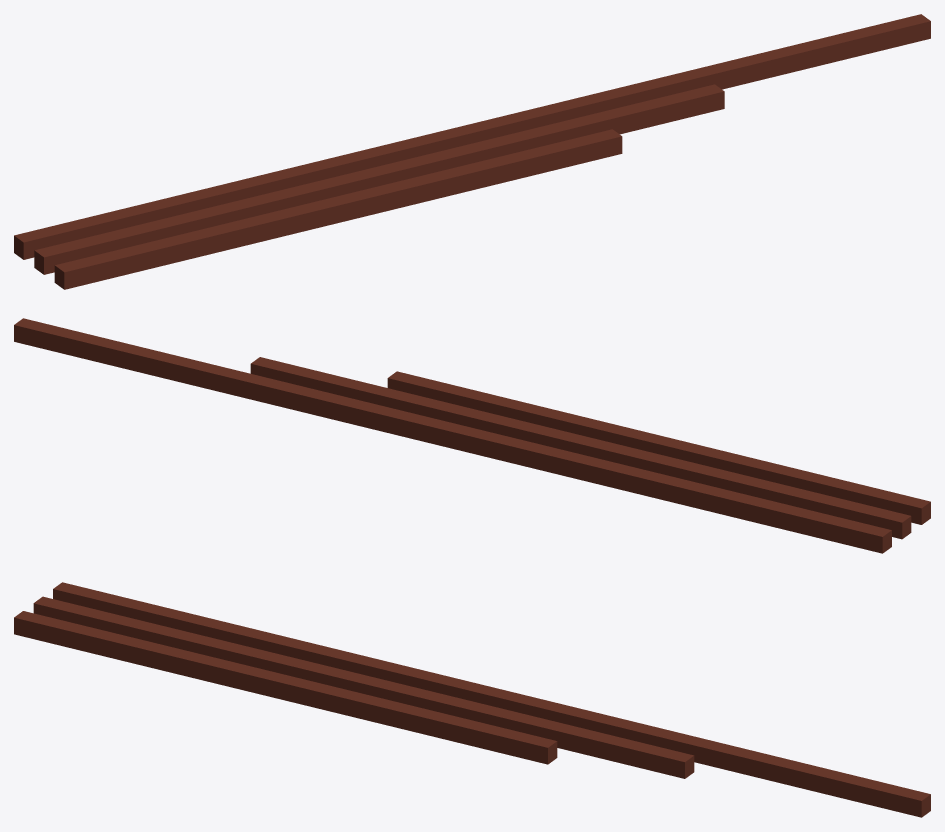
Rendered from post-90x90-steel_ipe_v0.1.dae.
The picture shows the model from 3 angles, top to bottom: view 1: azimuth 30°, elevation 25°; view 2: azimuth 150°, elevation 25°; view 3: azimuth 330°, elevation 25°; orthographic projection. The views are drawn at different scales.
Parts seen in each view (by area): view 1: IB-13232_post-90x90-steel_ipe_4880mm, IB-13212_post-90x90-steel_ipe_3000mm, IB-13222_post-90x90-steel_ipe_3660mm; view 2: IB-13232_post-90x90-steel_ipe_4880mm, IB-13222_post-90x90-steel_ipe_3660mm, IB-13212_post-90x90-steel_ipe_3000mm; view 3: IB-13232_post-90x90-steel_ipe_4880mm, IB-13212_post-90x90-steel_ipe_3000mm, IB-13222_post-90x90-steel_ipe_3660mm.
Part boxes in pixels (x1,y1,x2,y2): IB-13232_post-90x90-steel_ipe_4880mm: (14,14,930,259); IB-13212_post-90x90-steel_ipe_3000mm: (54,129,622,289); IB-13222_post-90x90-steel_ipe_3660mm: (34,84,724,274); IB-13232_post-90x90-steel_ipe_4880mm: (14,318,891,553); IB-13222_post-90x90-steel_ipe_3660mm: (250,357,911,539); IB-13212_post-90x90-steel_ipe_3000mm: (387,371,930,524); IB-13232_post-90x90-steel_ipe_4880mm: (53,582,930,817); IB-13212_post-90x90-steel_ipe_3000mm: (14,611,557,764); IB-13222_post-90x90-steel_ipe_3660mm: (33,596,694,778).
Size of the model in its own units: 4880 by 470 by 90.
